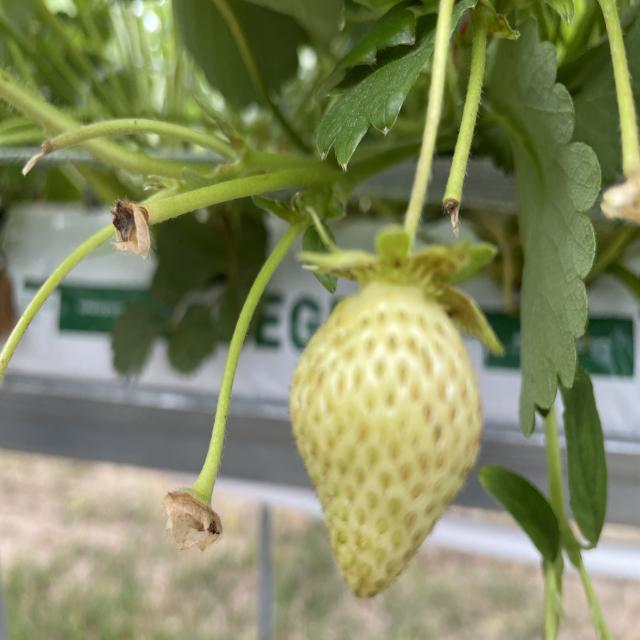stem: (301, 0, 498, 349)
strawberryNR: (290, 281, 482, 597)
